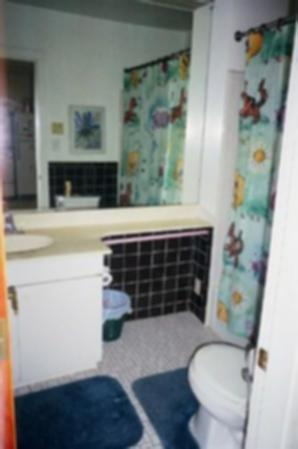Armario: (2, 252, 101, 396)
Bote de Basura: (100, 286, 131, 342)
Lavamanos: (1, 212, 53, 256)
Sanitario: (181, 333, 254, 447)
